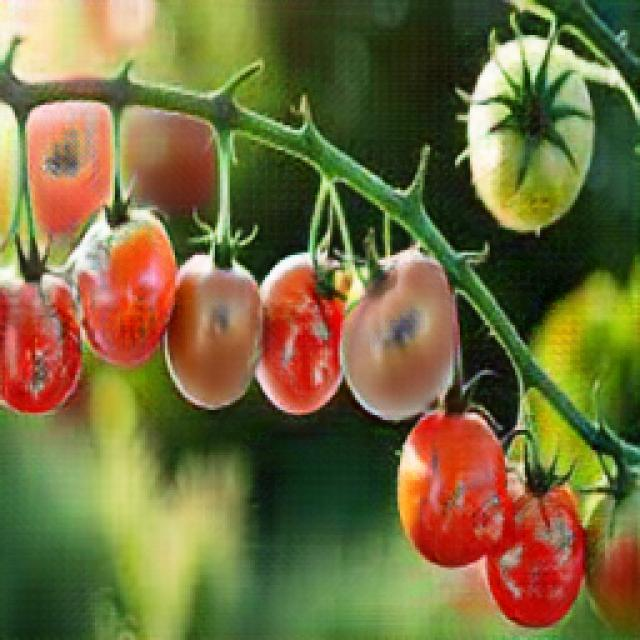overripe tomato: (342, 254, 450, 416), (71, 205, 175, 370), (250, 251, 349, 416), (161, 260, 263, 410), (398, 404, 499, 554), (486, 485, 590, 625), (0, 280, 83, 415)
